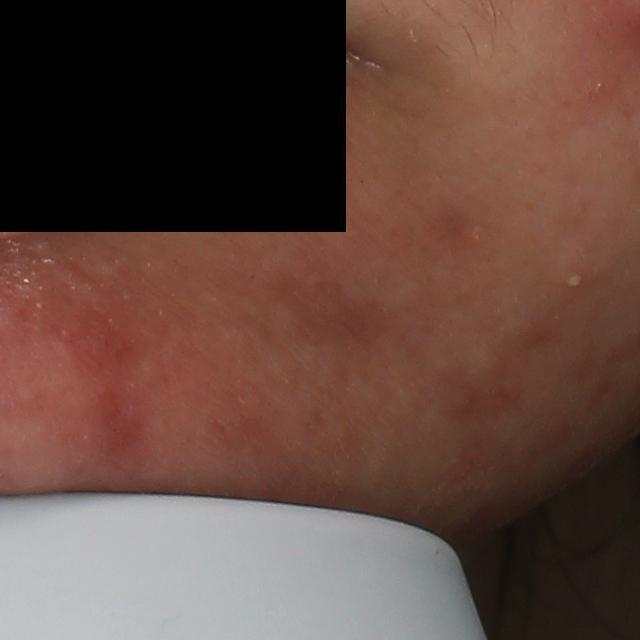pustule: (561, 271, 586, 292)
